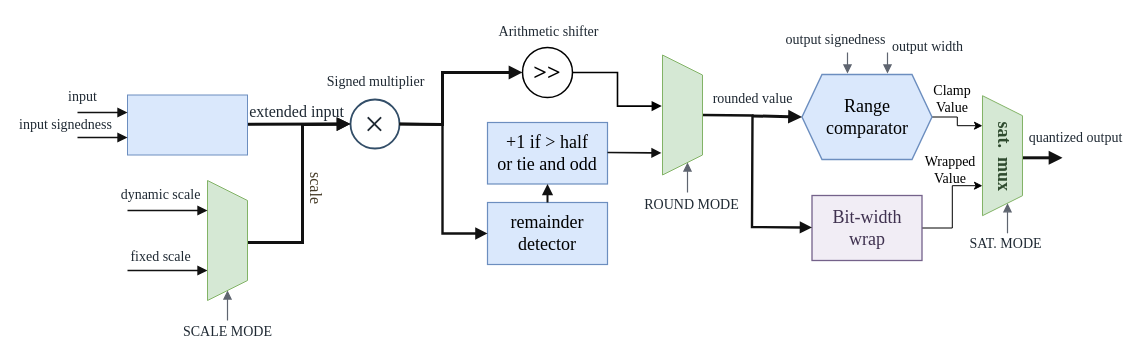
Some shapes in this 1139 by 359 pixel diagram are drawn without their labels. Here are the shapes that lost their labels. From the top down, the centre of each, then its label:
the point at 187,124: Sign/zero extender
the point at 682,114: round mux
the point at 227,240: scale mux
